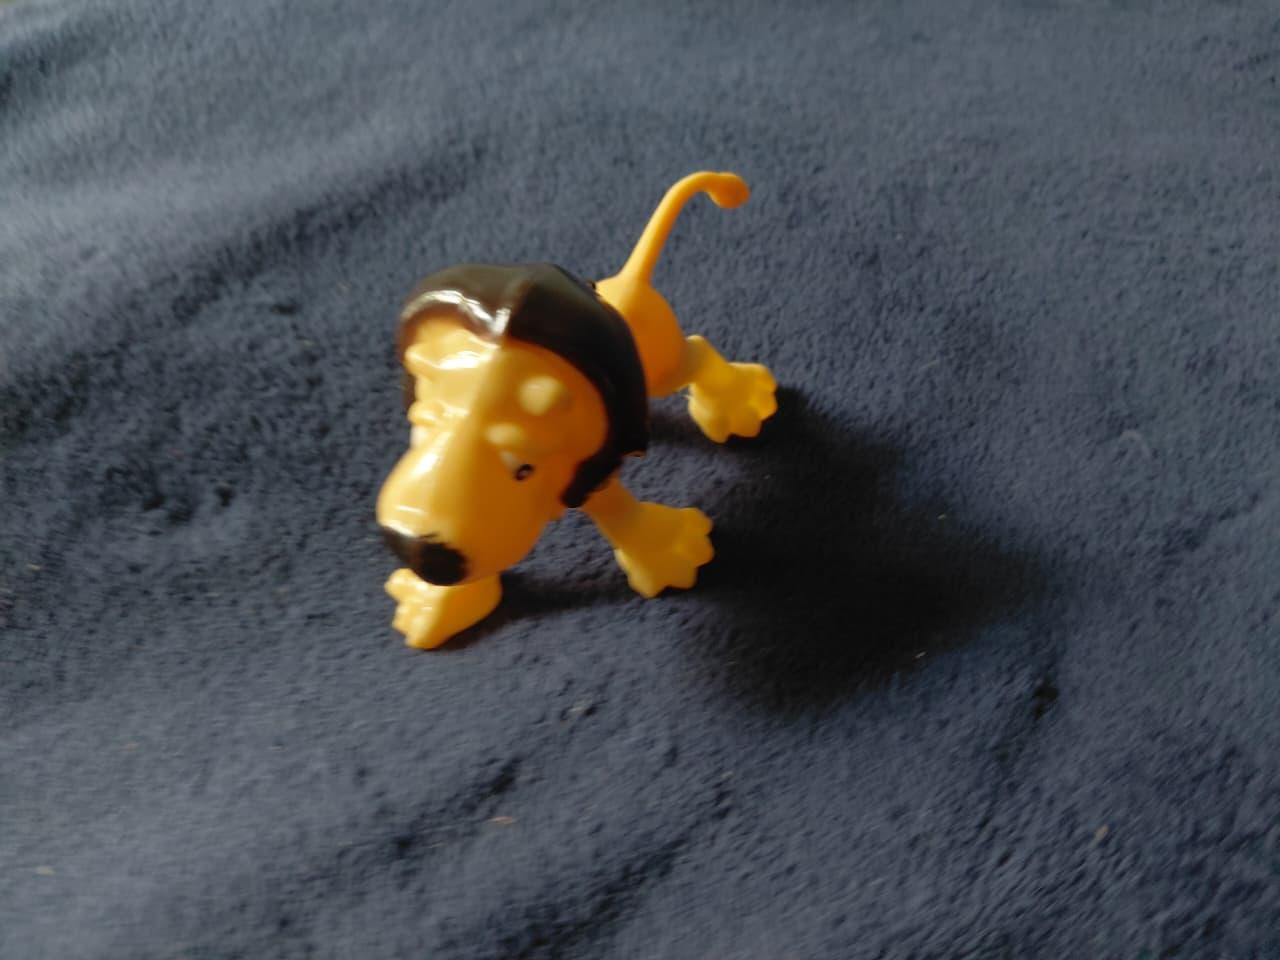lion: (368, 156, 779, 637)
